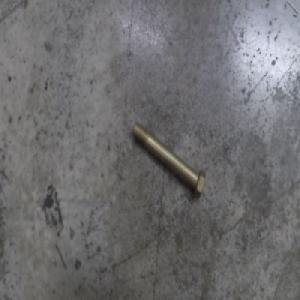Bolt: (131, 118, 206, 200)
